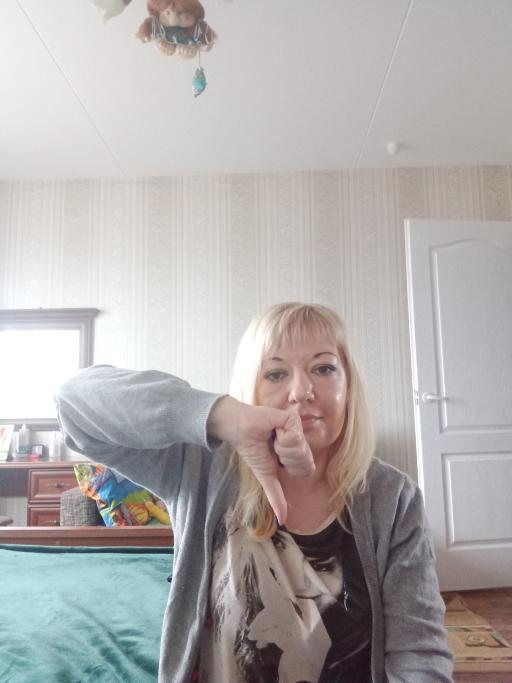dislike: (233, 402, 317, 527)
